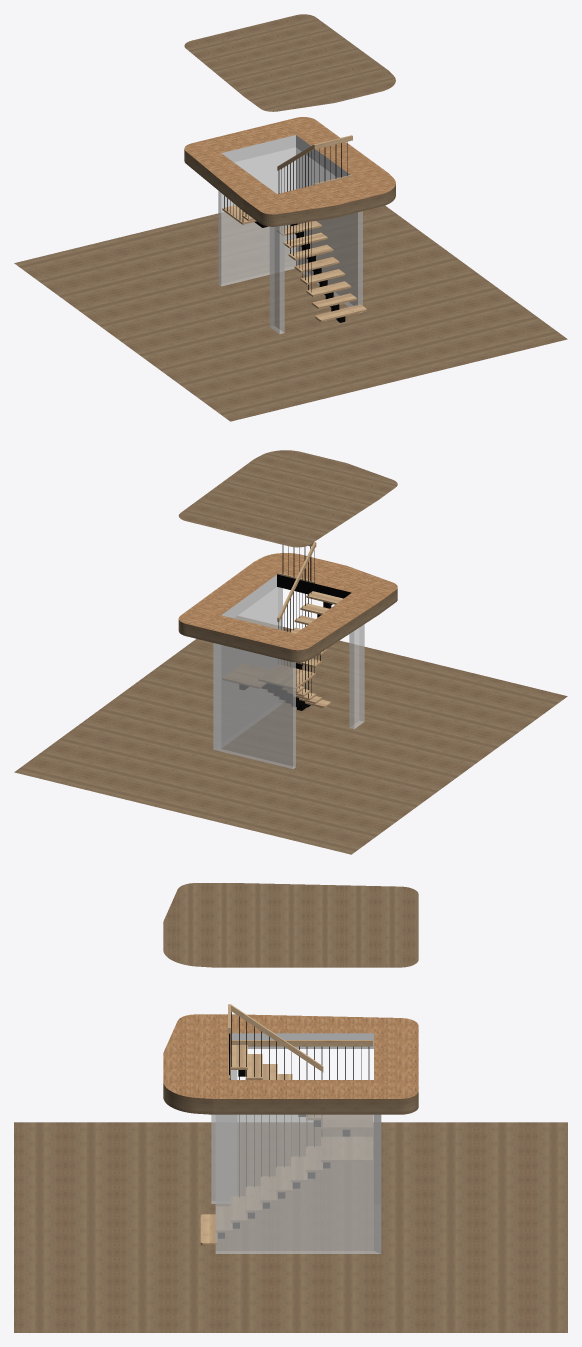
The picture shows the model from 3 angles, top to bottom: view 1: azimuth 30°, elevation 25°; view 2: azimuth 150°, elevation 25°; view 3: azimuth 270°, elevation 25°; orthographic projection. The views are drawn at different scales.
Parts seen in each view (by area): view 1: _x0023_OBJECT3D0_x002C_90_x002C_90_x002C_91 (×2), _x0023_BEGIN_WALL0_x002C_90_x002C_90_x002C_90_x002C_3, _x0023_OBJECT3Dcon_parkett.jpg1111, _x0023_TREADcon_ash.jpg1111, _x0023_BEGIN_OPENING0_x002C_90_x002C_90_x002C_91, _x0023_BALUSTER0001; view 2: _x0023_OBJECT3D0_x002C_90_x002C_90_x002C_91 (×2), _x0023_BEGIN_WALL0_x002C_90_x002C_90_x002C_90_x002C_3, _x0023_OBJECT3Dcon_parkett.jpg1111, _x0023_TREADcon_ash.jpg1111 (×2), _x0023_BALUSTER0001, _x0023_BEGIN_OPENING0001, _x0023_BEGIN_OPENING0_x002C_90_x002C_90_x002C_91, _x0023_STRING0001; view 3: _x0023_OBJECT3D0_x002C_90_x002C_90_x002C_91 (×2), _x0023_BEGIN_WALL0_x002C_90_x002C_90_x002C_90_x002C_3, _x0023_OBJECT3Dcon_parkett.jpg1111, _x0023_TREADcon_ash.jpg1111 (×2), _x0023_HANDRAILcon_ash.jpg1111, _x0023_BALUSTER0001, _x0023_BEGIN_OPENING0_x002C_90_x002C_90_x002C_91.
Part boxes in pixels (box(x1,y1,x2,y2)): _x0023_OBJECT3D0_x002C_90_x002C_90_x002C_91 (×2): box(14, 14, 567, 421); _x0023_BEGIN_WALL0_x002C_90_x002C_90_x002C_90_x002C_3: box(218, 147, 362, 334); _x0023_OBJECT3Dcon_parkett.jpg1111: box(184, 117, 395, 214); _x0023_TREADcon_ash.jpg1111: box(222, 205, 356, 308); _x0023_BEGIN_OPENING0_x002C_90_x002C_90_x002C_91: box(221, 135, 350, 177); _x0023_BALUSTER0001: box(224, 142, 347, 292); _x0023_OBJECT3D0_x002C_90_x002C_90_x002C_91 (×2): box(14, 450, 567, 854); _x0023_BEGIN_WALL0_x002C_90_x002C_90_x002C_90_x002C_3: box(213, 587, 364, 768); _x0023_OBJECT3Dcon_parkett.jpg1111: box(178, 553, 397, 650); _x0023_TREADcon_ash.jpg1111 (×2): box(222, 591, 343, 708); _x0023_BALUSTER0001: box(278, 545, 323, 698); _x0023_BEGIN_OPENING0001: box(277, 574, 351, 598); _x0023_BEGIN_OPENING0_x002C_90_x002C_90_x002C_91: box(221, 575, 276, 618); _x0023_STRING0001: box(239, 602, 332, 710); _x0023_OBJECT3D0_x002C_90_x002C_90_x002C_91 (×2): box(14, 883, 567, 1332); _x0023_BEGIN_WALL0_x002C_90_x002C_90_x002C_90_x002C_3: box(211, 1070, 381, 1253); _x0023_OBJECT3Dcon_parkett.jpg1111: box(163, 1014, 418, 1098); _x0023_TREADcon_ash.jpg1111 (×2): box(200, 1045, 372, 1245); _x0023_HANDRAILcon_ash.jpg1111: box(228, 1004, 372, 1072); _x0023_BALUSTER0001: box(229, 1011, 369, 1196); _x0023_BEGIN_OPENING0_x002C_90_x002C_90_x002C_91: box(231, 1033, 373, 1048).
Bounding box in the file's own units: 8.01 × 5.36 × 8.9.
Materials: 10 (5 with a texture image).
